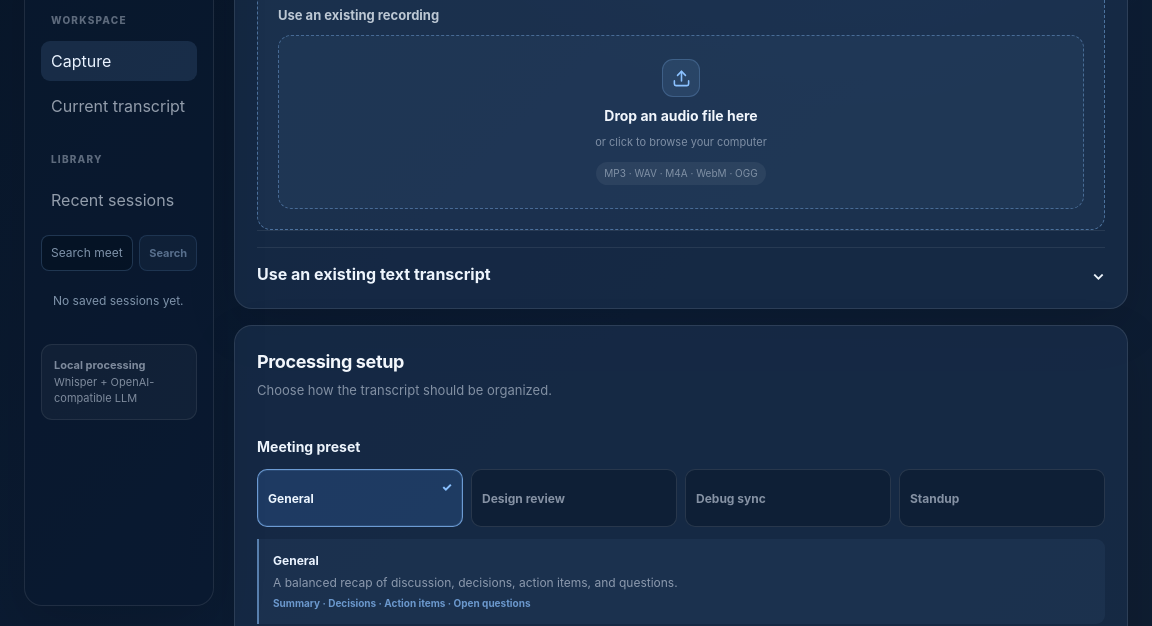
App live transcript editor › cleans and persists a pasted transcript as a text meeting
(page scrolled)
Click the heading "Use an existing text transcript ⌄".
click(374, 274)  # box [257,247,1105,286]
(page scrolled)
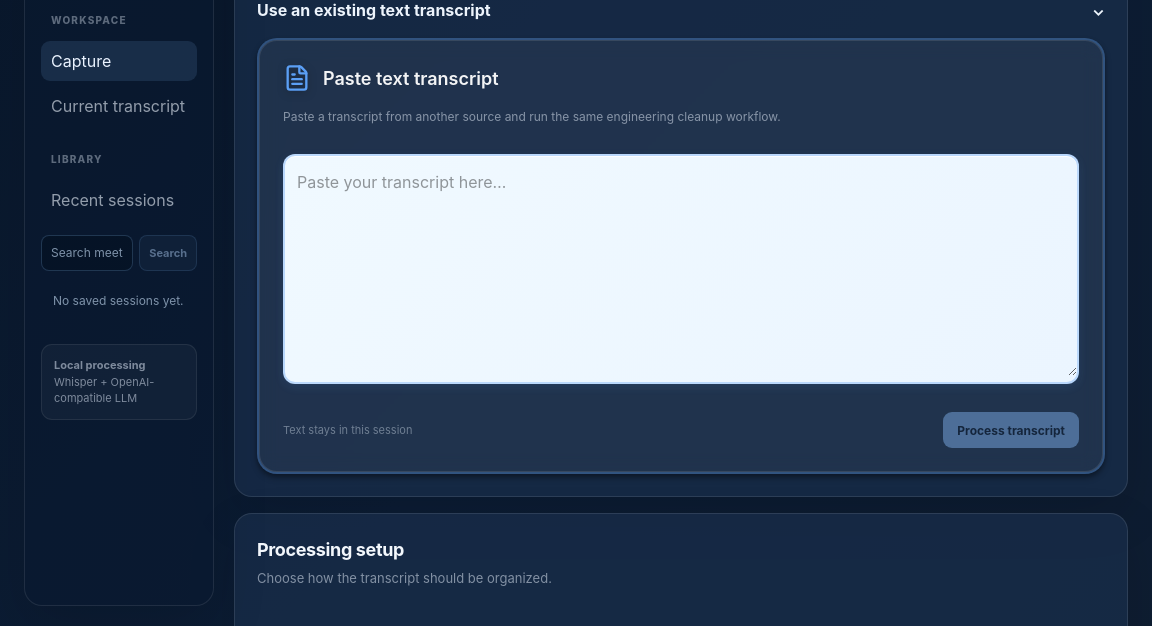
Type "We decided to launch the pilot next Tuesday." into the text box named "Text transcript input".
click(681, 266); type("We decided to launch the pilot next Tuesday.")  # box [285,156,1077,376]
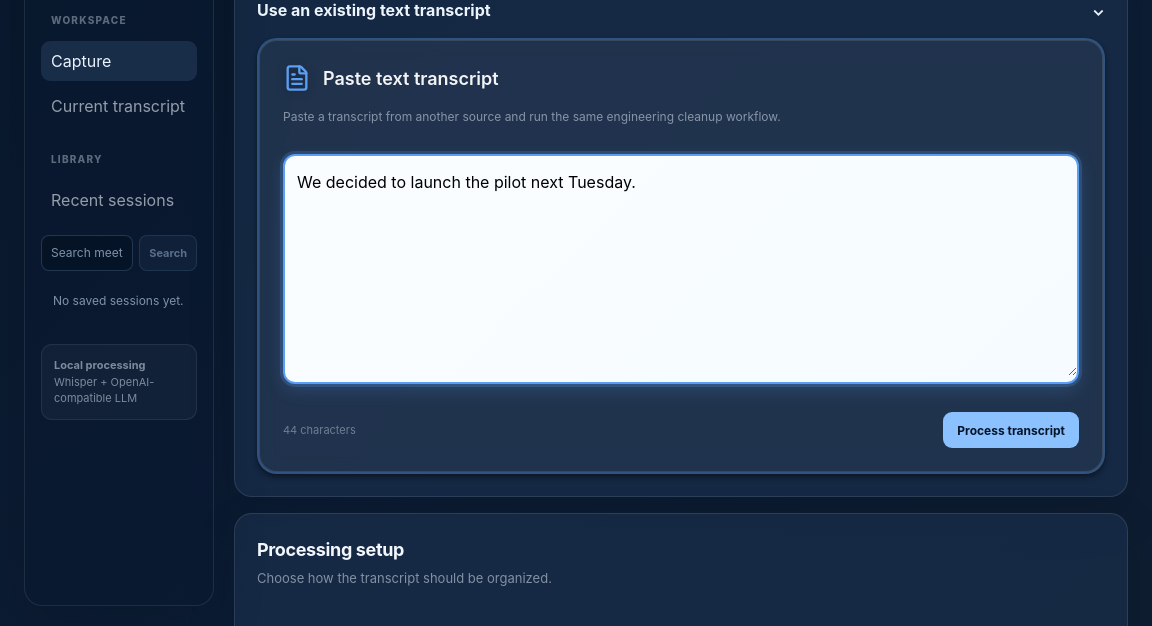
Click the button "Process transcript".
click(1011, 430)  # box [943,412,1079,448]
(page scrolled)
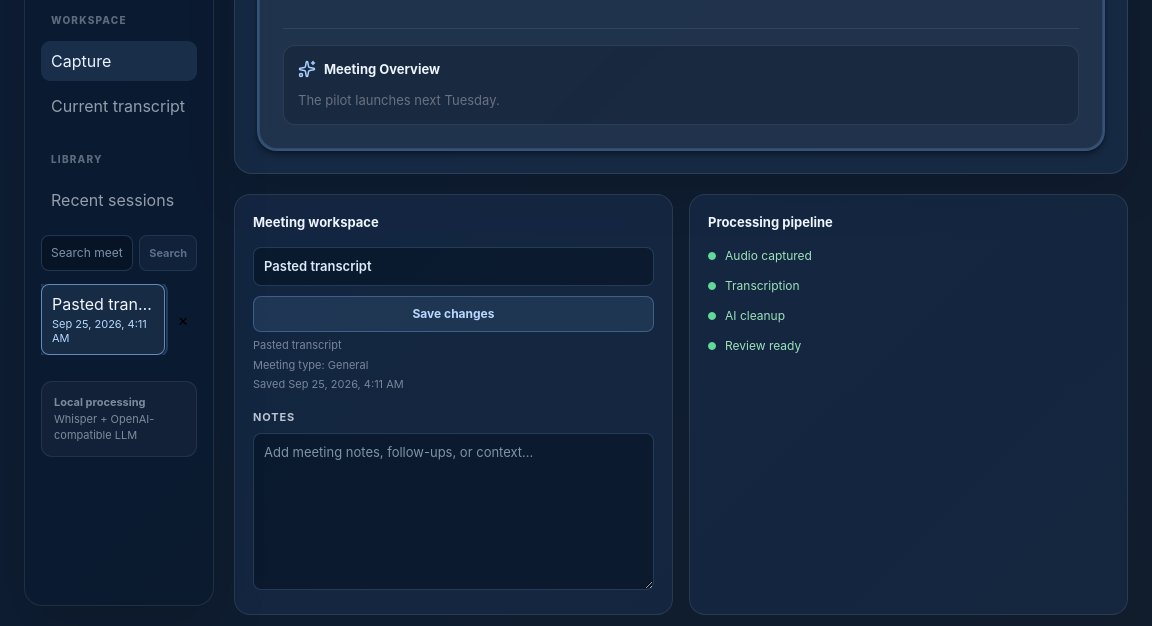
Expected: the text "The pilot launches next Tuesday." is shown, [298,92,500,108]
Expected: the field named "Meeting title" holds "Pasted transcript", [253,247,654,286]
